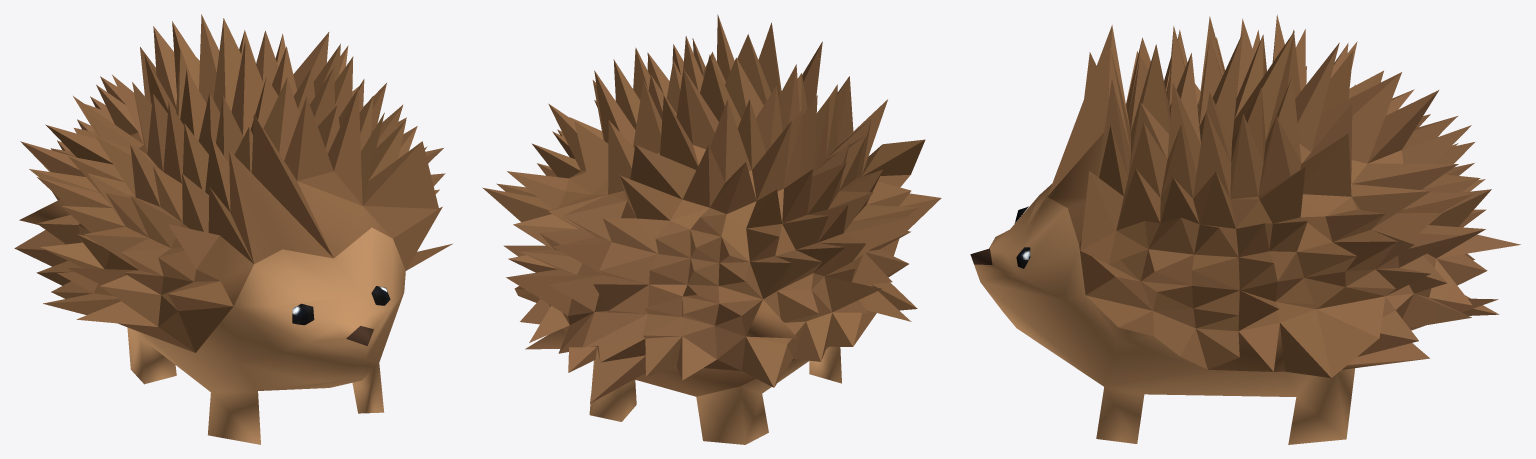
3 views of the same model, side by side, from view 1: azimuth 30°, elevation 25°; view 2: azimuth 150°, elevation 25°; view 3: azimuth 270°, elevation 25° (orthographic). The views are drawn at different scales.
Parts seen in each view (by area): view 1: HedgeHog; view 2: HedgeHog; view 3: HedgeHog.
Part boxes in pixels (x1,y1,x2,y2): HedgeHog: (14, 14, 452, 444); HedgeHog: (482, 14, 941, 444); HedgeHog: (970, 14, 1520, 444).
Size of what is drawn, in the model's own units: 0.3873 by 0.3377 by 0.453.
1 material, 1 textured.
